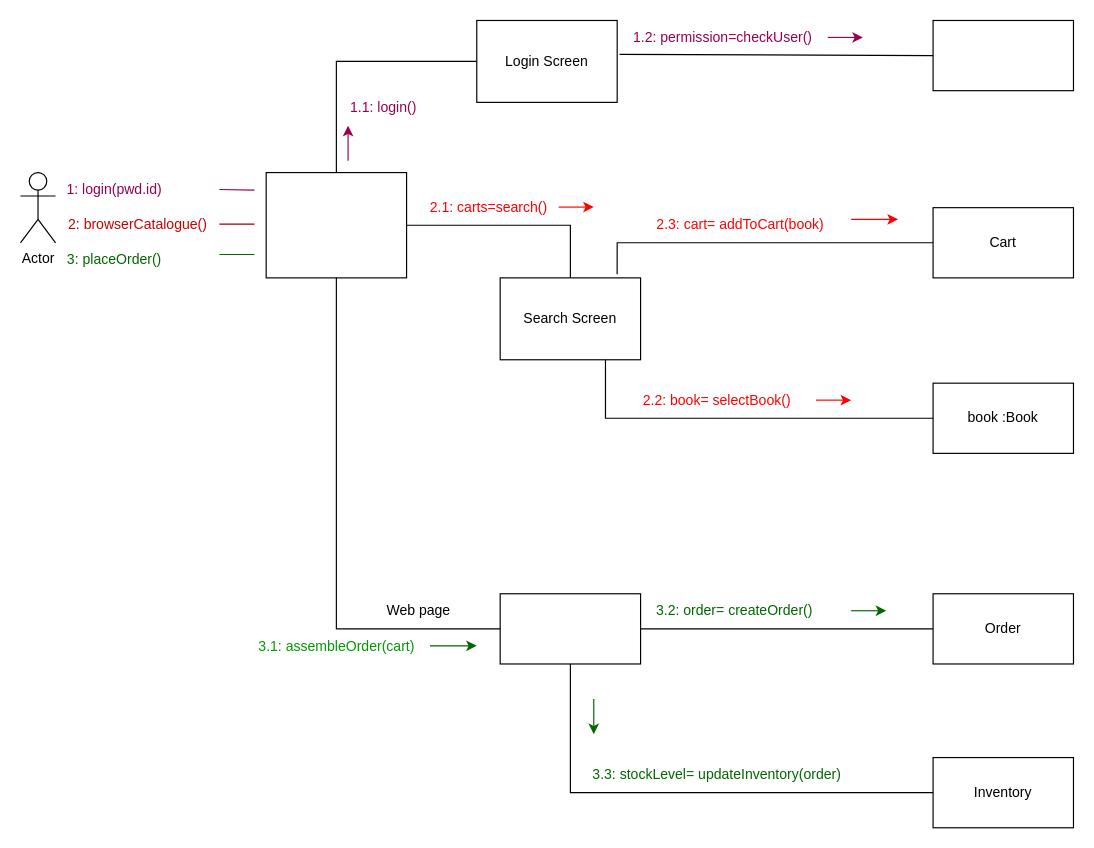
Some shapes in this 1094 by 848 pixel diagram are drawn without their labels. The shapes that lost their labels are listed below. From the top down, each one's box as (x1, y1, x2, y2) in pixels, then its label:
(932, 19, 1073, 91): User Validator
(265, 171, 407, 278): Order System
(499, 593, 641, 664): Order Screen
